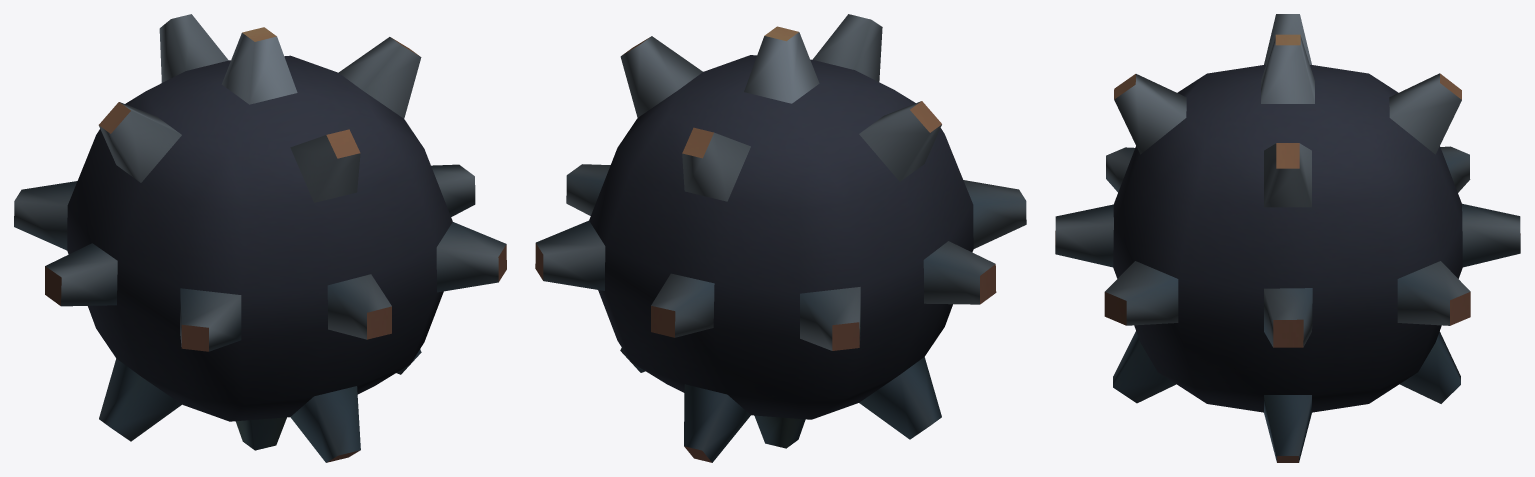
File: mine_water.fbx
3 renders of one model, left to right at view 1: azimuth 30°, elevation 25°; view 2: azimuth 150°, elevation 25°; view 3: azimuth 270°, elevation 25°, orthographic. The views are drawn at different scales.
Parts seen in each view (by area): view 1: mine_water; view 2: mine_water; view 3: mine_water.
Boxes of the visible parts, x1,y1,x2,y2 form: mine_water: (14,14,506,462); mine_water: (535,14,1026,462); mine_water: (1055,14,1520,462).
Size of the model in its own units: 125 by 117 by 125.
